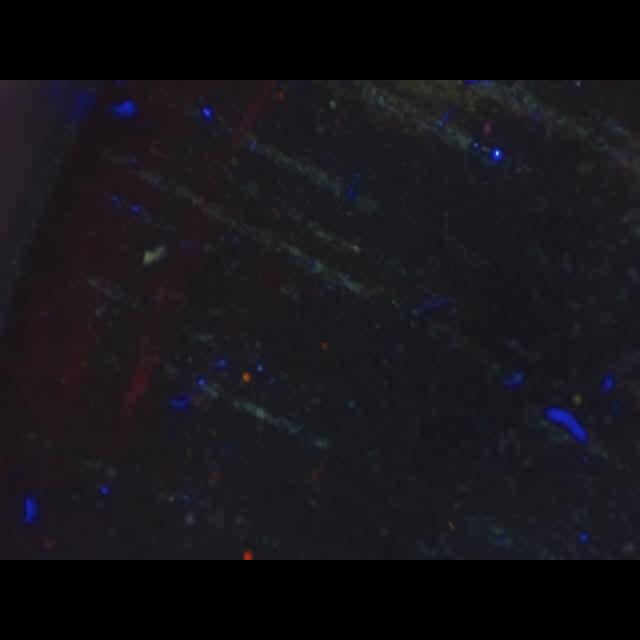microbeads: (142, 240, 168, 268)
